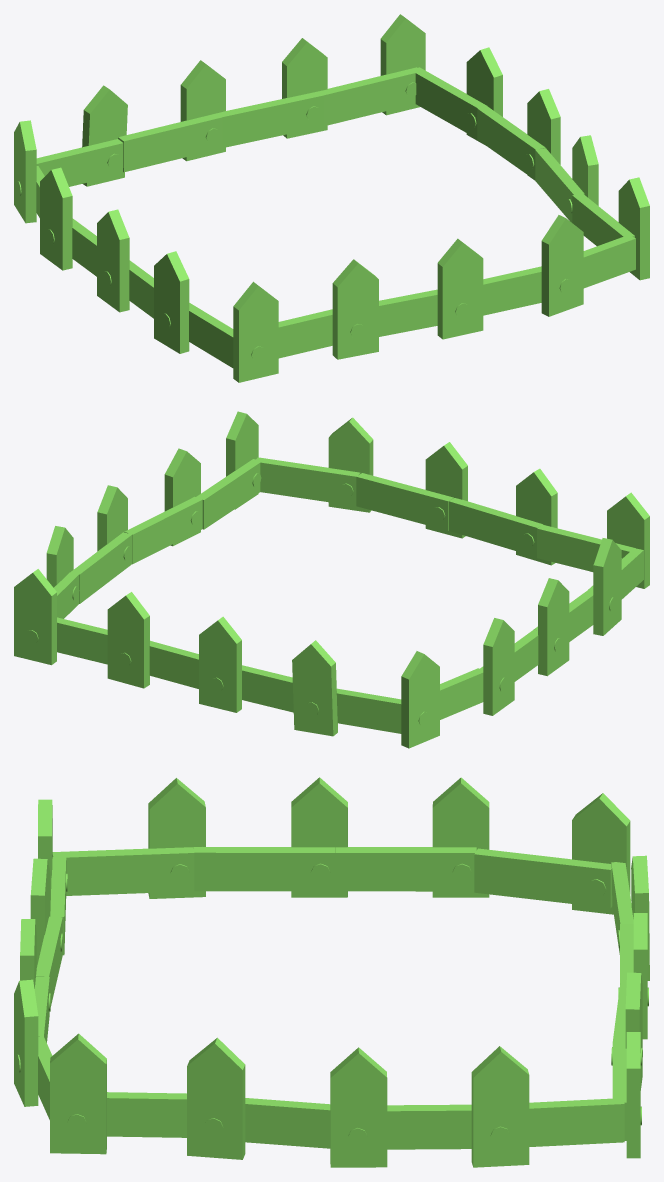
File: MYFence.obj
3 renders of one model, top to bottom at view 1: azimuth 30°, elevation 25°; view 2: azimuth 150°, elevation 25°; view 3: azimuth 270°, elevation 25°, orthographic. The views are drawn at different scales.
Visible parts, largest first — view 1: MYFence_0, MYFence_1; view 2: MYFence_0, MYFence_1; view 3: MYFence_0, MYFence_1.
Part boxes in pixels (bbox=[...]): MYFence_0: bbox=[18, 14, 649, 382]; MYFence_1: bbox=[14, 18, 639, 382]; MYFence_0: bbox=[27, 411, 649, 748]; MYFence_1: bbox=[14, 414, 644, 748]; MYFence_0: bbox=[17, 777, 649, 1166]; MYFence_1: bbox=[14, 783, 642, 1167].
Bounding box in the file's own units: 4.64 × 0.9138 × 4.5.
